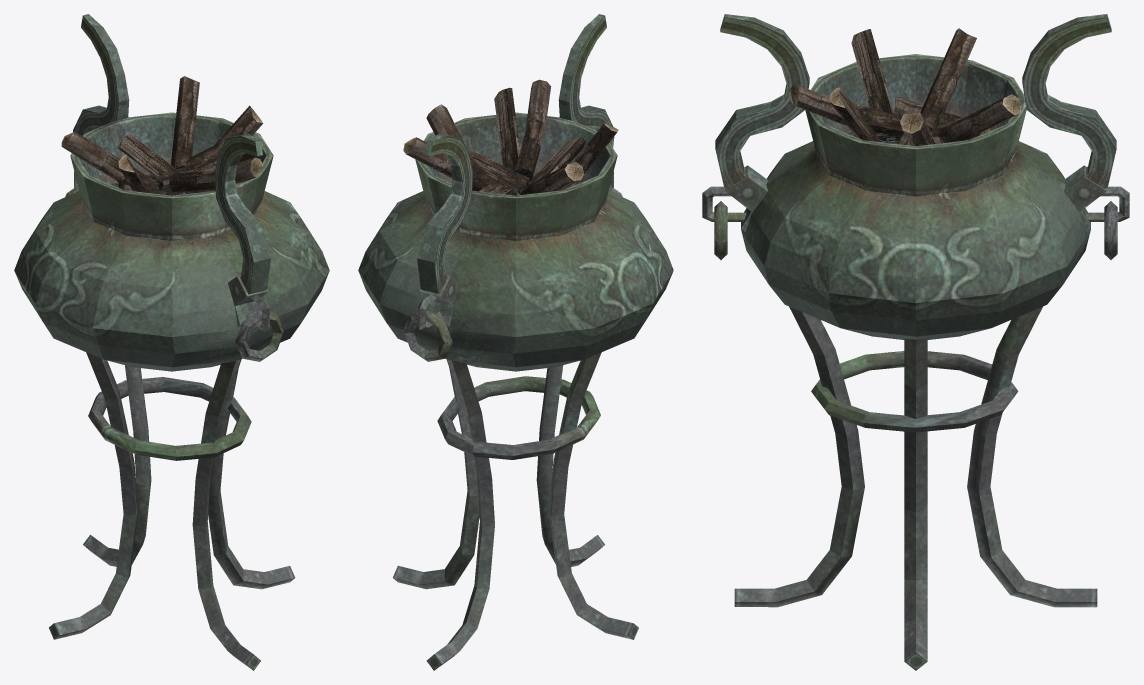
Rendered from bg_anh_mirrorv_bn03_sm_old.FBX.
The picture shows the model from 3 angles, left to right: view 1: azimuth 30°, elevation 25°; view 2: azimuth 150°, elevation 25°; view 3: azimuth 270°, elevation 25°; orthographic projection. The views are drawn at different scales.
Parts seen in each view (by area): view 1: bg_anh_mirrorv_bn03_sm_old; view 2: bg_anh_mirrorv_bn03_sm_old; view 3: bg_anh_mirrorv_bn03_sm_old.
Part boxes in pixels (left/top/right/bottom): bg_anh_mirrorv_bn03_sm_old: left=14, top=14, right=329, bottom=670; bg_anh_mirrorv_bn03_sm_old: left=358, top=14, right=673, bottom=670; bg_anh_mirrorv_bn03_sm_old: left=702, top=14, right=1129, bottom=670.
Bounding box in the file's own units: 90.45 × 169 × 111.
